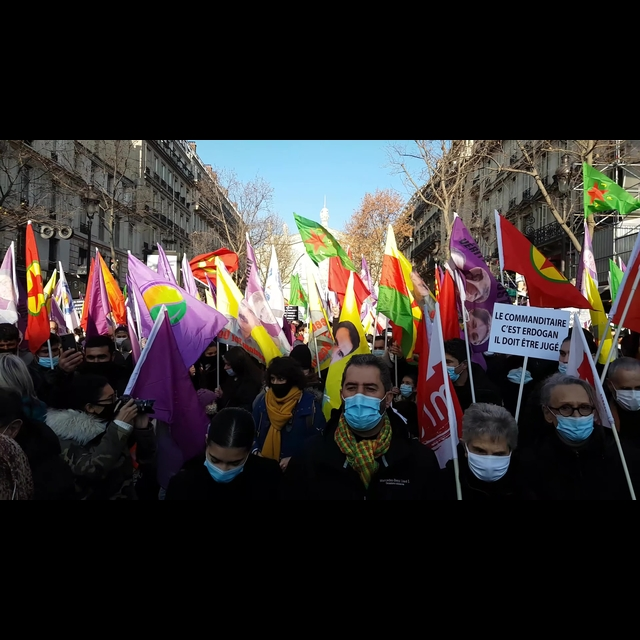YPJ: (303, 220, 343, 259), (586, 171, 619, 212)
